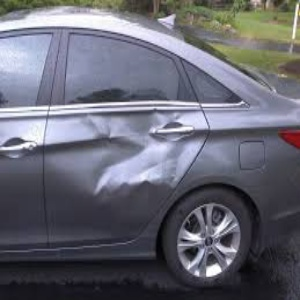door: (44, 117, 190, 203)
